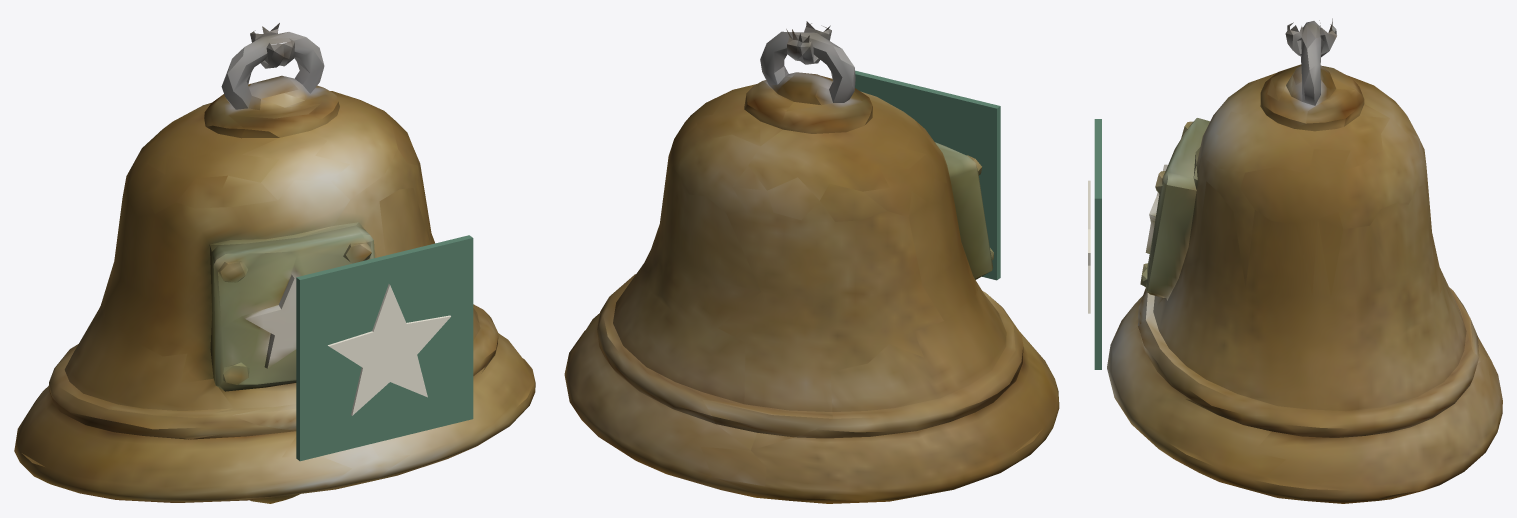
File: bell_star.glb
3 views of the same model, side by side, from view 1: azimuth 30°, elevation 25°; view 2: azimuth 150°, elevation 25°; view 3: azimuth 270°, elevation 25° (orthographic). The views are drawn at different scales.
Parts seen in each view (by area): view 1: Tripo bell star, Exact star symbol plaque, Exact cream star inlay; view 2: Tripo bell star, Exact star symbol plaque; view 3: Tripo bell star, Exact star symbol plaque.
Part boxes in pixels (x1,y1,x2,y2): Tripo bell star: [14, 23, 535, 503]; Exact star symbol plaque: [296, 235, 473, 461]; Exact cream star inlay: [328, 284, 450, 415]; Tripo bell star: [564, 21, 1059, 503]; Exact star symbol plaque: [855, 70, 1000, 280]; Tripo bell star: [1107, 18, 1502, 503]; Exact star symbol plaque: [1094, 119, 1101, 369].
Bounding box in the file's own units: 0.5811 × 0.5498 × 0.4611.
3 materials, 1 textured.
